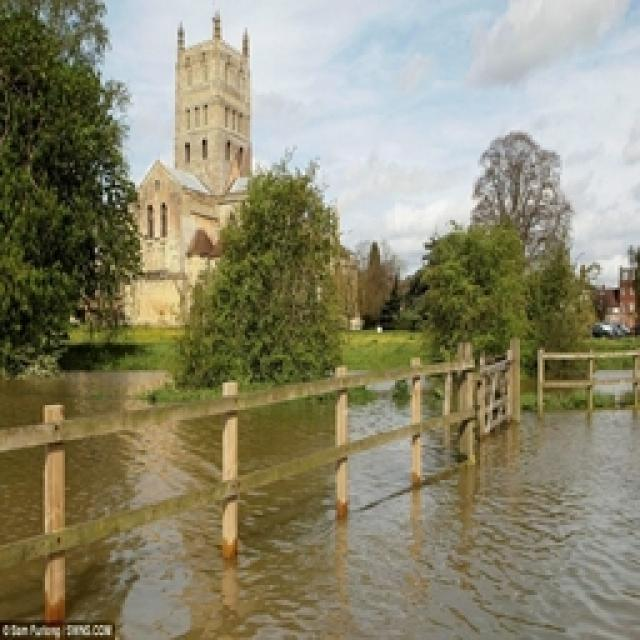Abbey: (101, 1, 348, 333), (1, 616, 121, 638)
